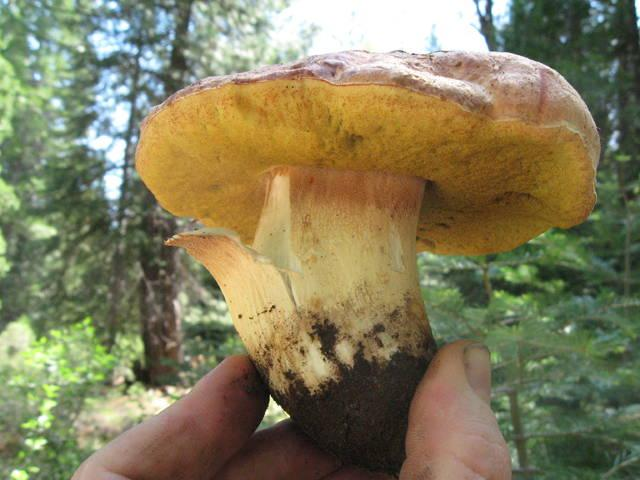edible_mushroom: (133, 47, 601, 474)
